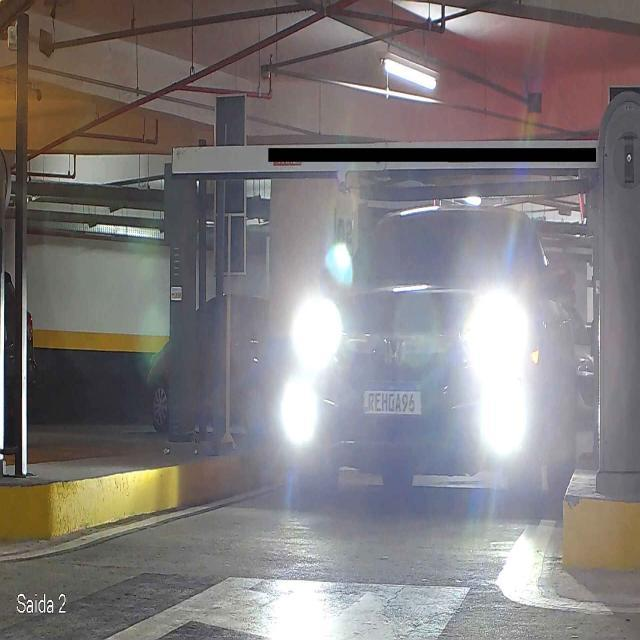mercosul_plate: (362, 384, 424, 417)
